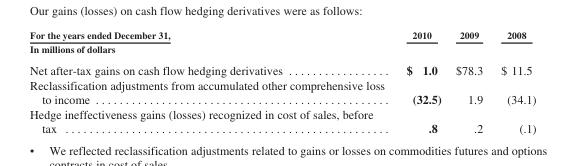table: (29, 28, 535, 134)
table column: (29, 28, 394, 134), (394, 28, 447, 134), (447, 28, 491, 134), (491, 28, 535, 134)
table column header: (29, 28, 535, 41)
table projected row header: (29, 41, 535, 58)
table row: (29, 77, 535, 106), (29, 106, 535, 134), (29, 58, 535, 77), (29, 41, 535, 58), (29, 28, 535, 41)
